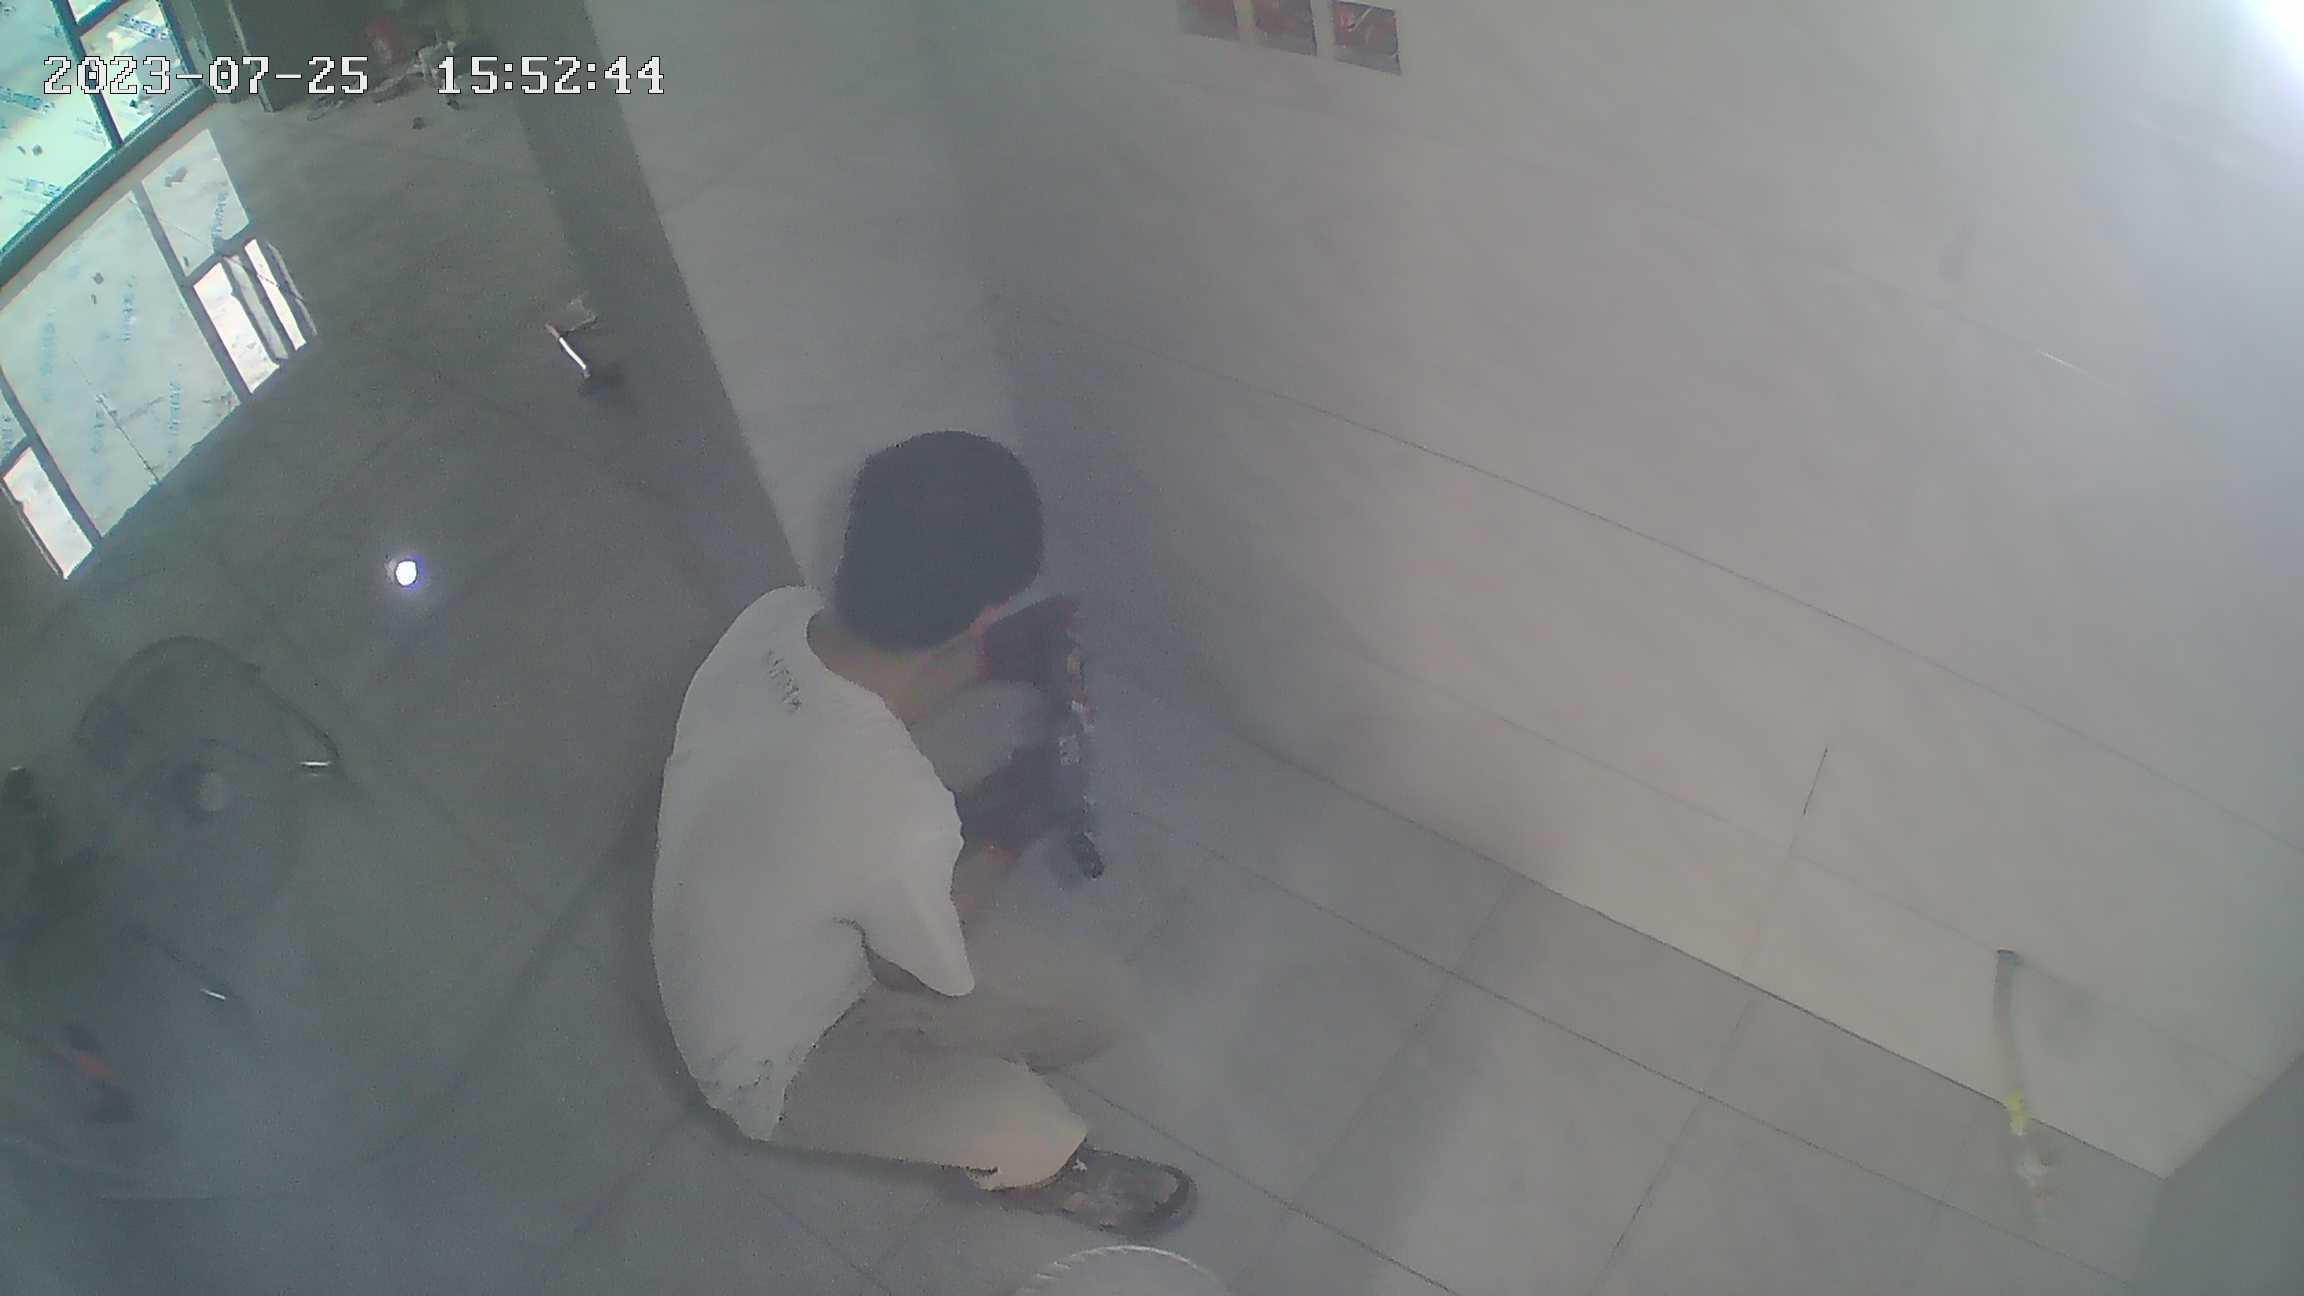people: (650, 433, 1217, 1250)
window: (6, 1, 203, 270)
